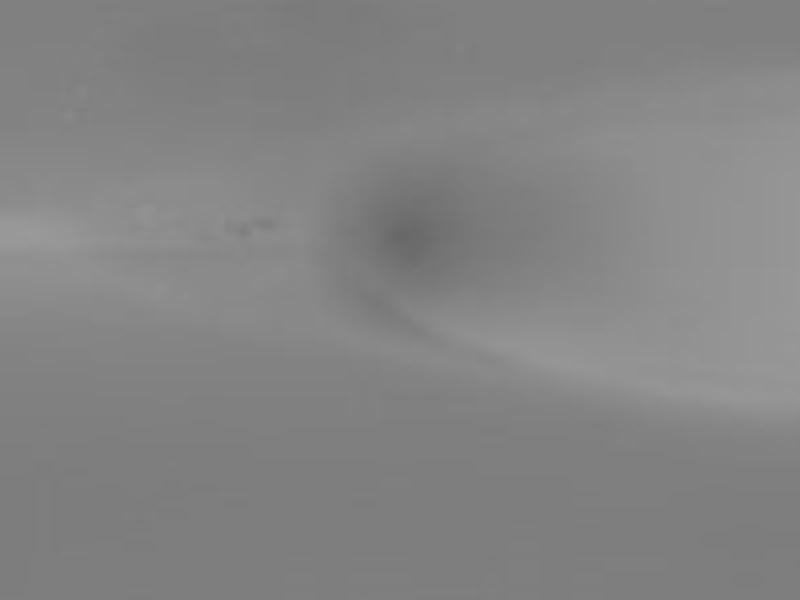defect: (374, 191, 463, 285), (254, 216, 283, 238), (232, 221, 254, 243)
